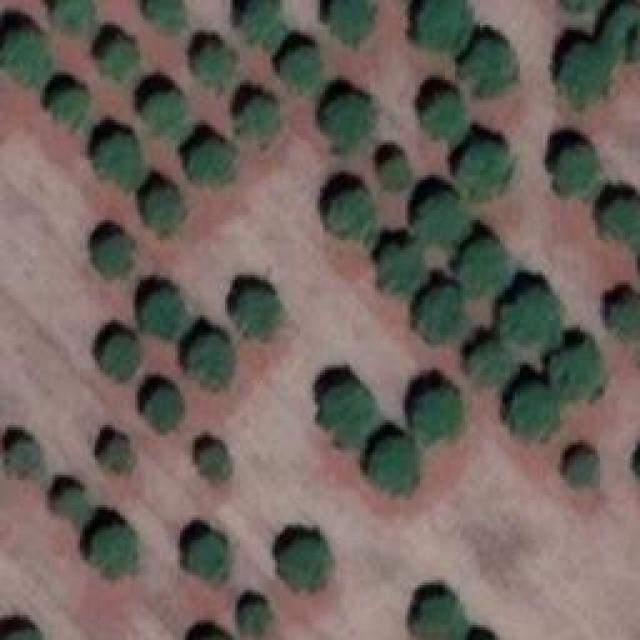Tree: (498, 285, 563, 350), (322, 382, 380, 450), (87, 130, 145, 190), (418, 0, 478, 55), (550, 340, 608, 395), (462, 38, 520, 93), (458, 140, 513, 198), (413, 383, 466, 438), (320, 93, 373, 148), (458, 237, 508, 295), (560, 45, 610, 103), (88, 525, 141, 578), (415, 193, 468, 246), (365, 438, 415, 493), (415, 285, 465, 340), (508, 385, 558, 438), (275, 538, 328, 588), (320, 190, 373, 240), (377, 243, 425, 298), (140, 88, 188, 141), (548, 143, 598, 193), (0, 33, 48, 83), (188, 137, 238, 185), (420, 90, 470, 138), (140, 290, 188, 338), (235, 290, 283, 338), (602, 0, 640, 60), (409, 597, 462, 640), (188, 338, 233, 388), (233, 98, 278, 148), (275, 43, 320, 93), (95, 335, 140, 383), (185, 43, 233, 88), (240, 0, 283, 50), (327, 0, 377, 42), (43, 0, 98, 38), (597, 195, 640, 242), (45, 88, 90, 131), (470, 340, 510, 388), (190, 535, 230, 580), (143, 390, 183, 433), (195, 445, 235, 488), (98, 233, 138, 276), (610, 290, 640, 343), (150, 188, 185, 233), (2, 438, 40, 478), (375, 152, 413, 190), (240, 600, 273, 640), (143, 0, 186, 30), (98, 440, 133, 475), (98, 35, 133, 70), (563, 453, 598, 486), (50, 488, 85, 521)
